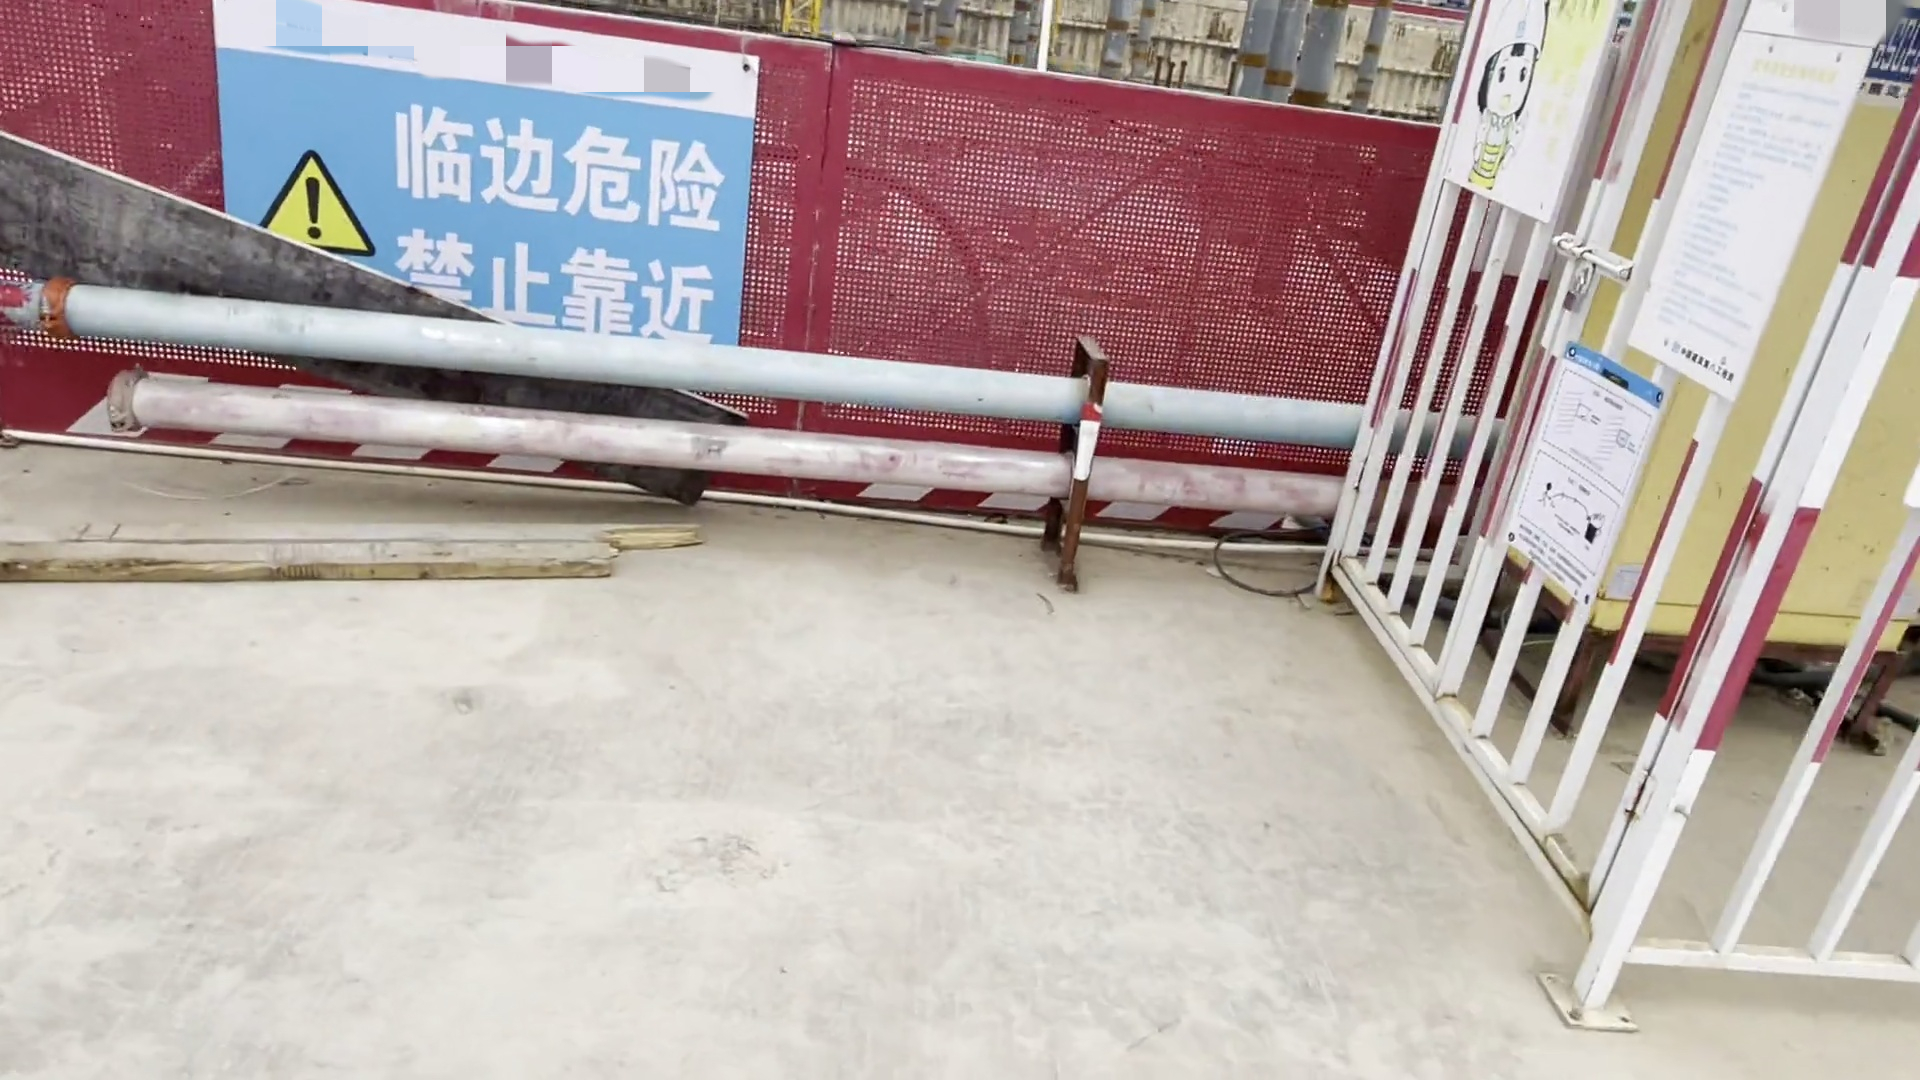fence: (1, 3, 833, 500), (816, 41, 1393, 546)
slogan: (270, 34, 713, 361)
